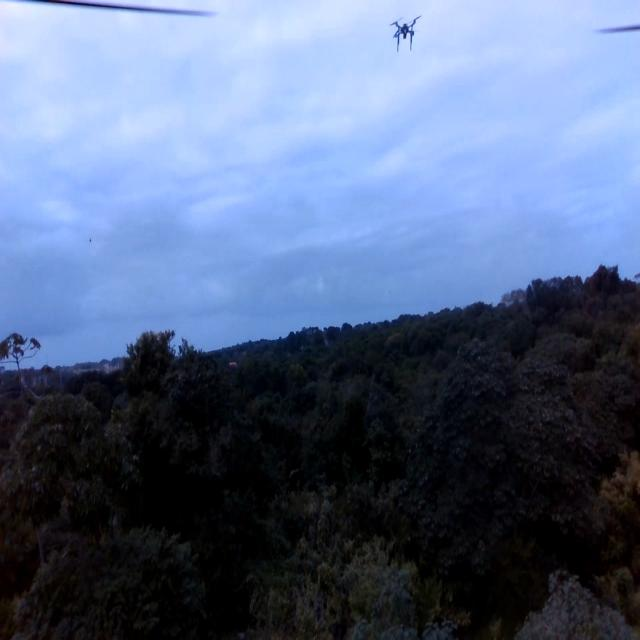-uav-: (383, 11, 422, 54)
